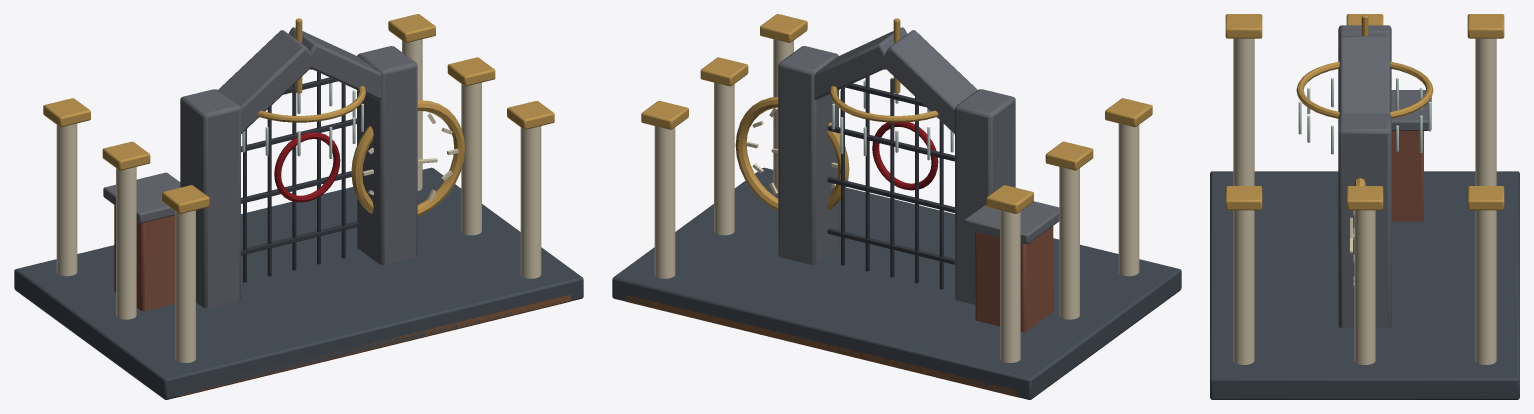
Rendered from book-jumps-kit.glb.
3 renders of one model, left to right at view 1: azimuth 30°, elevation 25°; view 2: azimuth 150°, elevation 25°; view 3: azimuth 270°, elevation 25°, orthographic. The views are drawn at different scales.
Parts seen in each view (by area): view 1: Darling_Roof, Castle_Post_1, Castle_Post_-1, Castle_Point_-1, Darling_Chimney, Pemberley_Column_-1_2.5, Pemberley_Column_1_-2.5, Pemberley_Column_-1_0, Pemberley_Column_-1_-2.5, Pemberley_Column_1_0, Neverland_Clock, Castle_Point_1 (+19 smaller); view 2: Darling_Roof, Castle_Post_1, Castle_Post_-1, Darling_Chimney, Castle_Point_-1, Pemberley_Column_-1_-2.5, Pemberley_Column_1_2.5, Pemberley_Column_-1_0, Pemberley_Column_1_0, Pemberley_Column_-1_2.5, Pemberley_DanceFloor, Castle_Point_1 (+19 smaller); view 3: Darling_Roof, Castle_Post_1, Castle_Point_1, Pemberley_Column_1_0, Pemberley_Column_1_2.5, Pemberley_Column_1_-2.5, Pemberley_Column_-1_2.5, Pemberley_Column_-1_-2.5, Darling_Chimney, Pemberley_ChandelierRing, Darling_ChimneyCap, Pemberley_Capital_1_0 (+7 smaller).
Boxes of the visible parts, box(x1,y1,x2,y2) form: Darling_Roof: box(14, 167, 583, 399); Castle_Post_1: box(357, 46, 417, 264); Castle_Post_-1: box(180, 89, 240, 308); Castle_Point_-1: box(218, 30, 314, 133); Darling_Chimney: box(114, 205, 175, 311); Pemberley_Column_-1_2.5: box(56, 123, 77, 276); Pemberley_Column_1_-2.5: box(520, 126, 541, 278); Pemberley_Column_-1_0: box(116, 167, 136, 319); Pemberley_Column_-1_-2.5: box(175, 210, 195, 362); Pemberley_Column_1_0: box(461, 82, 481, 235); Neverland_Clock: box(351, 100, 464, 216); Castle_Point_1: box(288, 27, 381, 100); Darling_Roof: box(612, 167, 1181, 399); Castle_Post_1: box(778, 46, 838, 264); Castle_Post_-1: box(955, 89, 1015, 304); Darling_Chimney: box(975, 226, 1053, 331); Castle_Point_-1: box(881, 30, 977, 133); Pemberley_Column_-1_-2.5: box(1118, 123, 1139, 276); Pemberley_Column_1_2.5: box(654, 126, 675, 278); Pemberley_Column_-1_0: box(1059, 167, 1079, 319); Pemberley_Column_1_0: box(714, 82, 734, 235); Pemberley_Column_-1_2.5: box(1000, 210, 1020, 362); Pemberley_DanceFloor: box(625, 295, 1017, 397); Castle_Point_1: box(814, 27, 907, 100); Darling_Roof: box(1210, 171, 1519, 399); Castle_Post_1: box(1338, 113, 1391, 327); Castle_Point_1: box(1339, 36, 1390, 113); Pemberley_Column_1_0: box(1354, 210, 1375, 364); Pemberley_Column_1_2.5: box(1475, 210, 1496, 364); Pemberley_Column_1_-2.5: box(1233, 210, 1254, 364); Pemberley_Column_-1_2.5: box(1475, 38, 1496, 185); Pemberley_Column_-1_-2.5: box(1233, 38, 1254, 185); Darling_Chimney: box(1391, 131, 1423, 221); Pemberley_ChandelierRing: box(1296, 61, 1433, 118); Darling_ChimneyCap: box(1391, 90, 1431, 130); Pemberley_Capital_1_0: box(1346, 186, 1383, 210).
Size of the model in its own units: 10.2 by 6.4 by 6.4.
